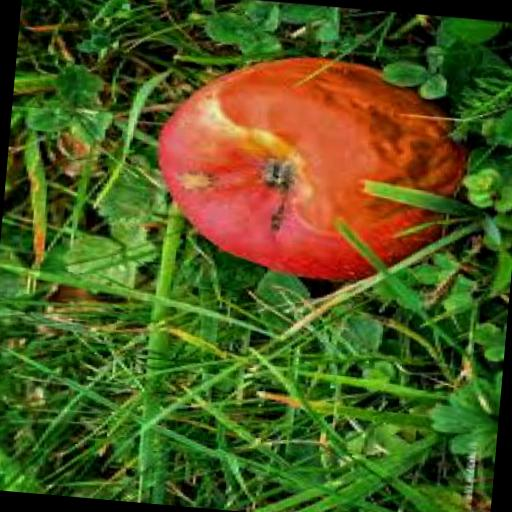biodegradable: (144, 39, 479, 290)
